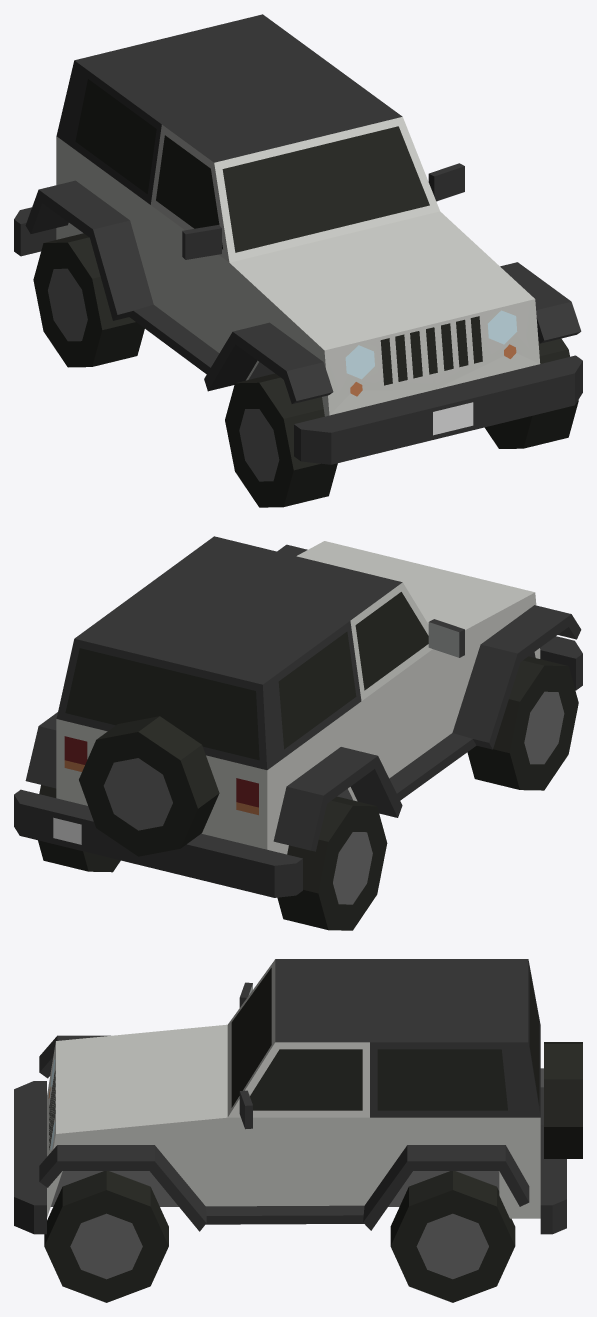
File: Veh_SUV_03_White.glb
3 views of the same model, one above another, from view 1: azimuth 30°, elevation 25°; view 2: azimuth 150°, elevation 25°; view 3: azimuth 270°, elevation 25° (orthographic). The views are drawn at different scales.
Parts seen in each view (by area): view 1: SUV_03_White, Wheel_FR, Wheel_RR, Wheel_FL; view 2: SUV_03_White, Wheel_RR, Wheel_FR, Wheel_RL; view 3: SUV_03_White, Wheel_RL, Wheel_FL.
Part boxes in pixels (x1,y1,x2,y2): SUV_03_White: (14,14,582,464); Wheel_FR: (225,373,337,507); Wheel_RR: (33,233,144,367); Wheel_FL: (484,338,578,448); SUV_03_White: (14,536,582,897); Wheel_RR: (277,796,387,930); Wheel_FR: (467,656,578,790); Wheel_RL: (38,785,120,872); SUV_03_White: (14,959,582,1234); Wheel_RL: (390,1171,515,1302); Wheel_FL: (44,1171,168,1302).
Size of the model in its own units: 1.19 by 1.06 by 2.28.
Materials: 1 (1 with a texture image).
